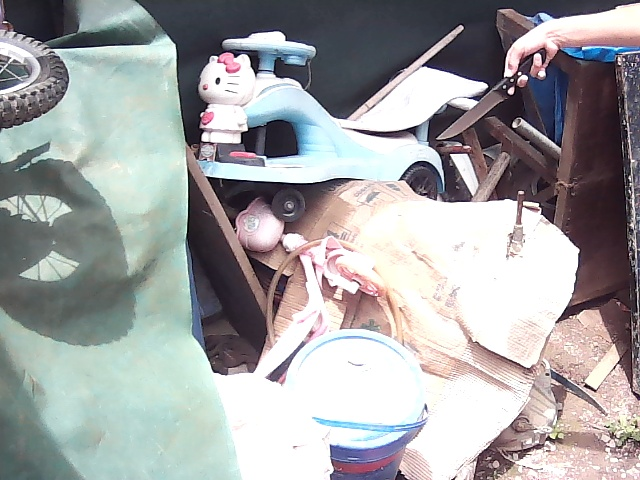cuchillo: (435, 58, 536, 144)
